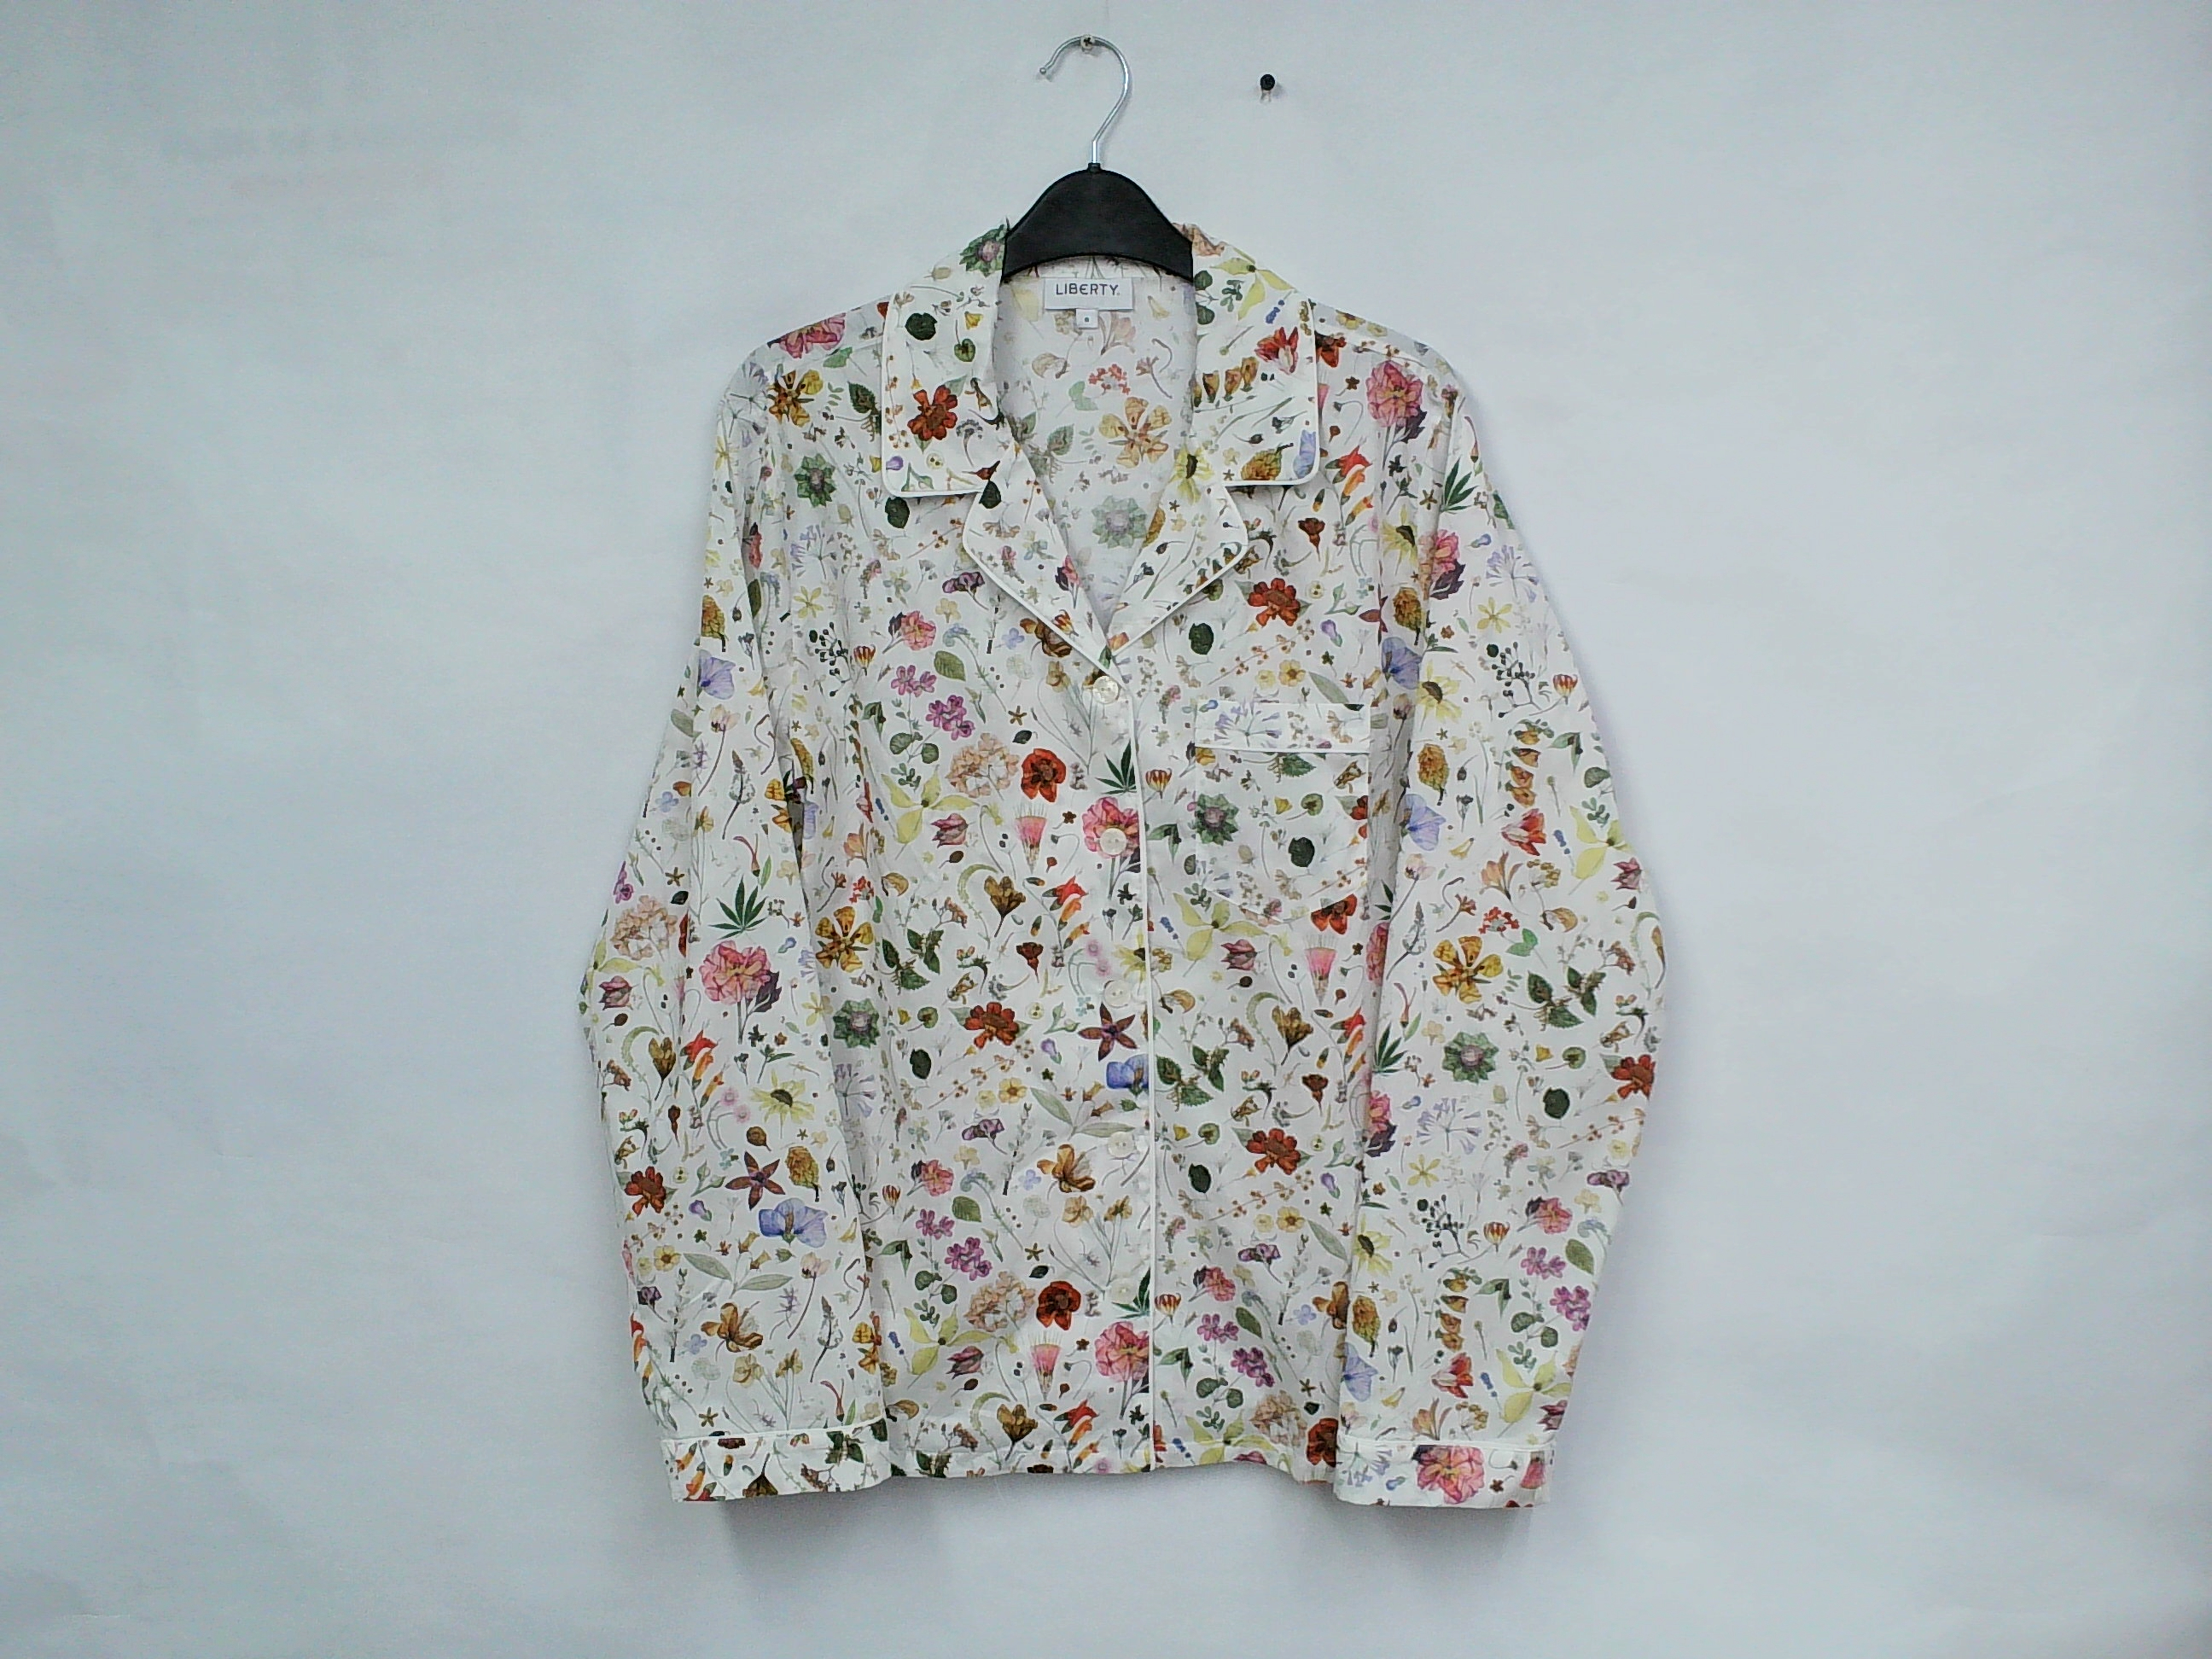loose_thread: (946, 1420, 1066, 1535)
